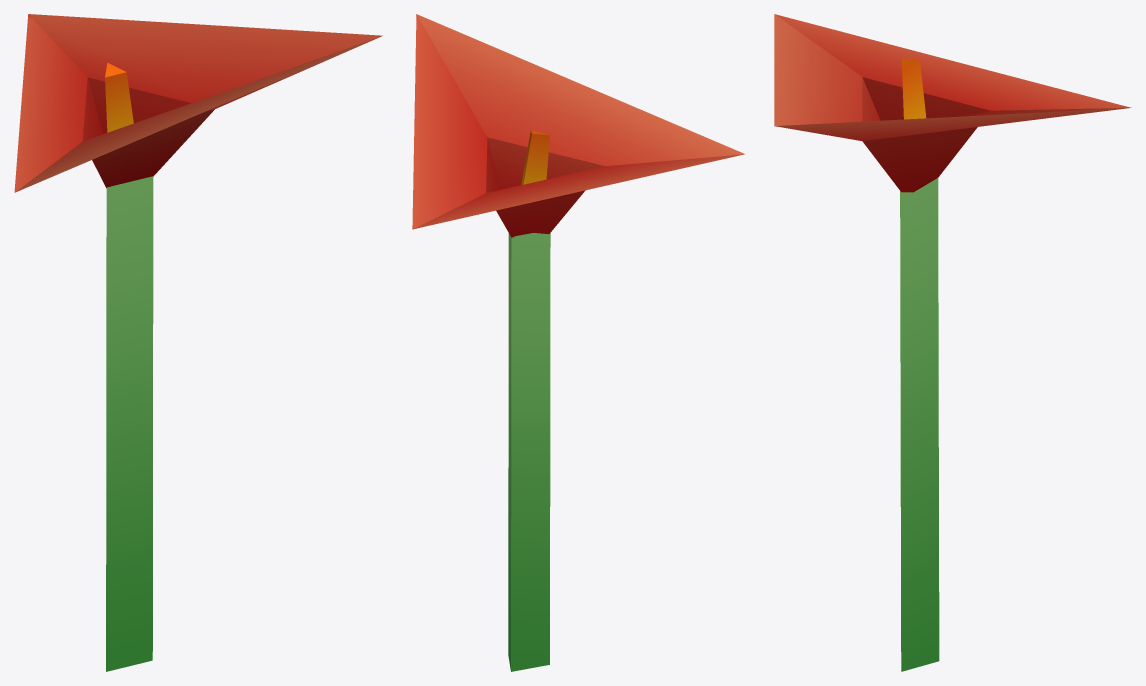
File: flower3.fbx
The picture shows the model from 3 angles, left to right: view 1: azimuth 30°, elevation 25°; view 2: azimuth 150°, elevation 25°; view 3: azimuth 270°, elevation 25°; orthographic projection. The views are drawn at different scales.
Parts seen in each view (by area): view 1: flower3; view 2: flower3; view 3: flower3.
Boxes of the visible parts, bbox=[...] form: flower3: bbox=[14, 14, 382, 671]; flower3: bbox=[412, 14, 744, 671]; flower3: bbox=[774, 14, 1131, 671].
Bounding box in the file's own units: 25.68 × 41.94 × 21.68.
